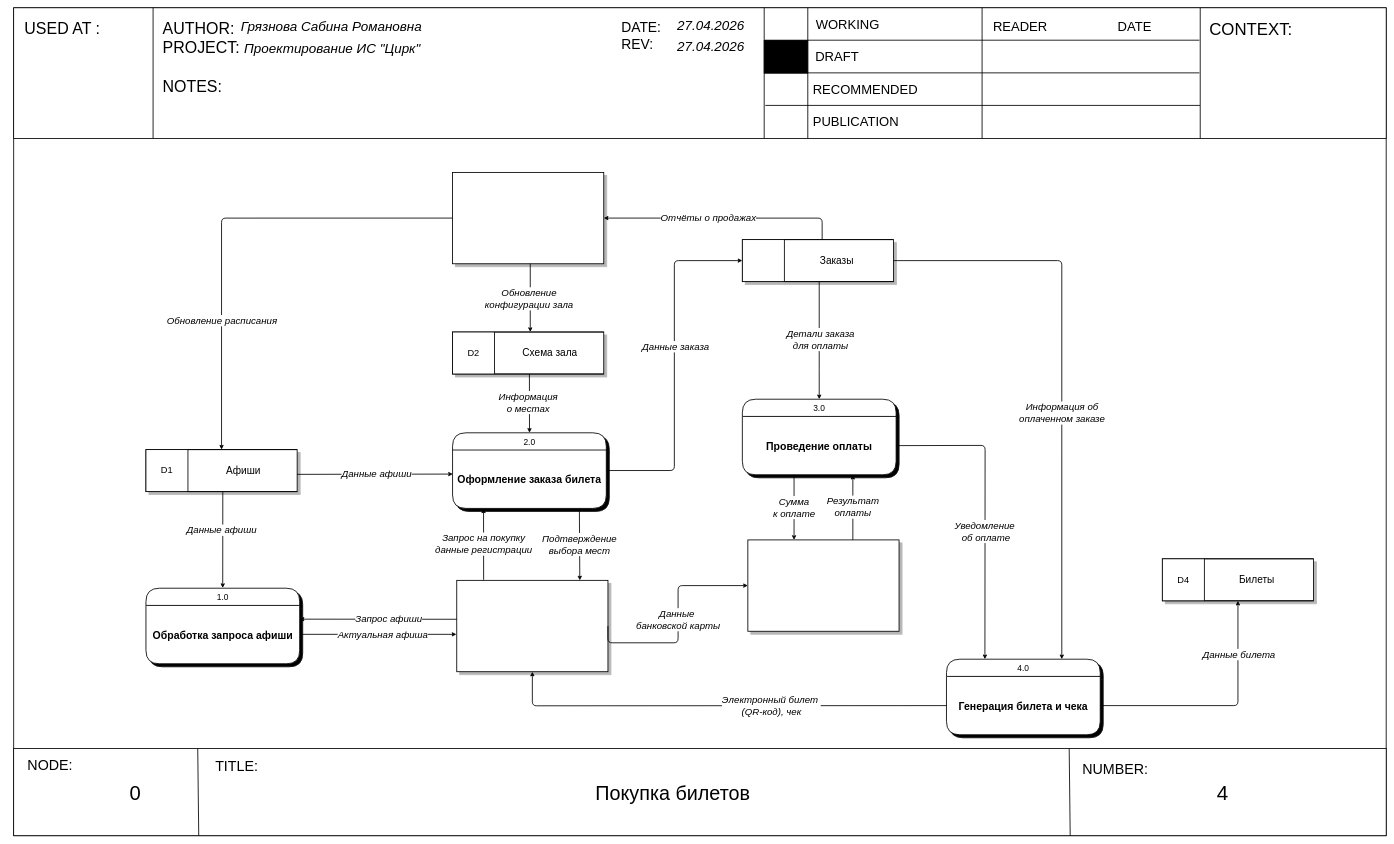
The diagram is 1394 pixels wide and 844 high, and some of its shapes have lost their labels. Each missing label, with the centre of its shape:
"D3" goes at [763,260].
"Администратор" goes at [529,219].
"Покупатель" goes at [533,627].
"Система оплаты" goes at [824,586].
